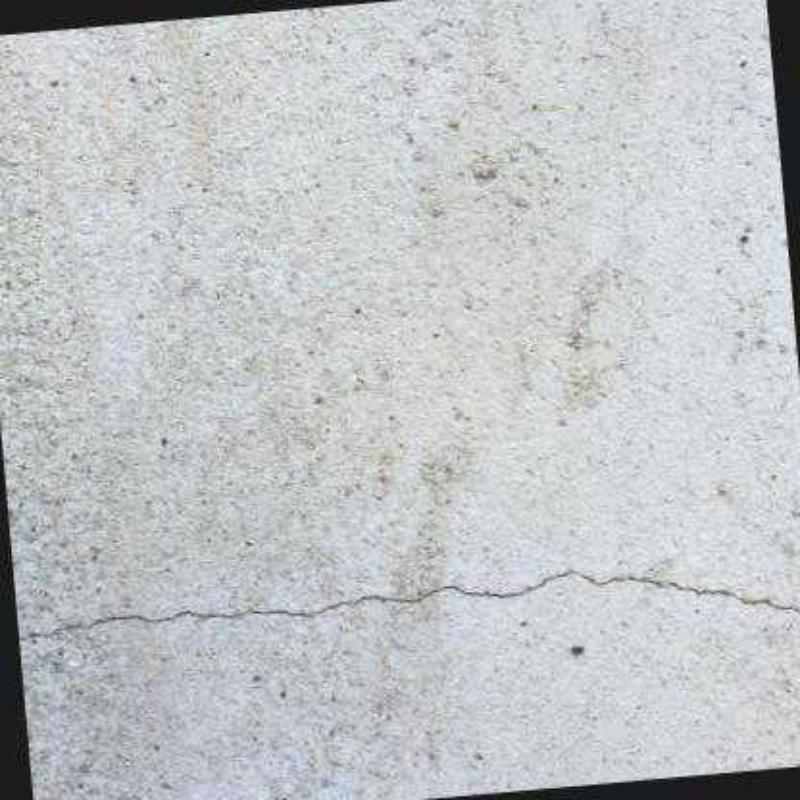pothole: (18, 570, 797, 641)
